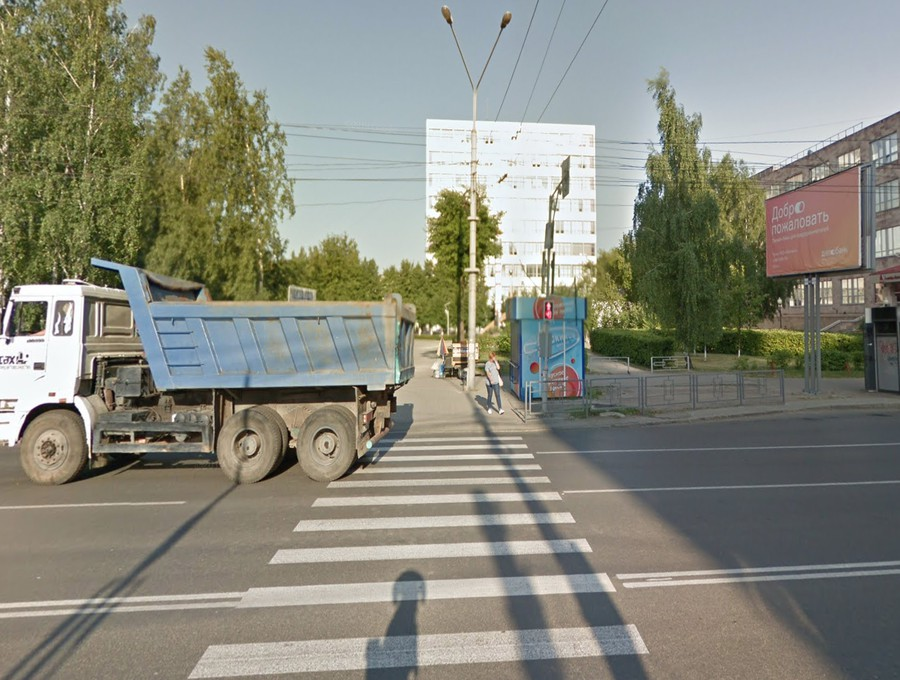Traffic Light-red: (539, 297, 557, 324)
